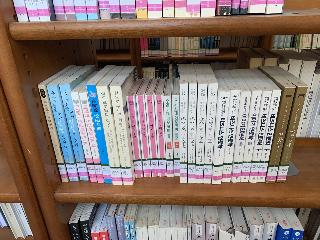book-spine: (275, 84, 308, 183), (47, 83, 78, 183), (265, 85, 296, 184), (59, 82, 89, 182), (38, 84, 67, 183), (86, 83, 113, 184), (96, 85, 122, 186), (109, 85, 133, 186), (71, 91, 97, 183), (256, 89, 281, 183), (79, 92, 104, 184), (248, 89, 272, 183), (239, 89, 262, 183), (220, 88, 241, 183), (231, 90, 251, 183), (211, 90, 230, 185), (202, 83, 218, 184), (194, 83, 208, 184), (126, 96, 143, 178), (136, 95, 151, 177), (145, 95, 159, 177), (154, 95, 167, 177), (163, 95, 176, 177), (187, 83, 197, 183), (180, 83, 188, 183), (172, 95, 180, 176)
